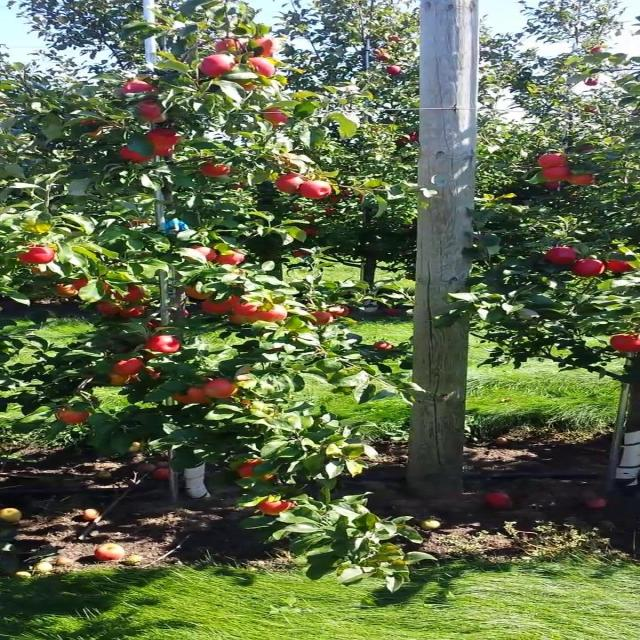apple: (241, 460, 277, 483), (198, 56, 236, 77), (205, 296, 242, 316), (298, 180, 334, 200), (255, 304, 290, 324), (141, 100, 169, 124), (148, 336, 183, 355), (205, 380, 240, 399), (276, 176, 306, 196), (56, 280, 91, 297), (547, 248, 580, 266), (20, 248, 57, 264), (56, 408, 92, 424), (177, 388, 213, 404), (148, 128, 181, 145), (120, 148, 155, 164), (262, 500, 297, 516), (113, 288, 148, 304), (575, 260, 604, 279), (262, 108, 292, 125), (113, 360, 144, 376), (127, 80, 158, 95), (248, 60, 277, 76), (611, 336, 638, 353), (191, 248, 220, 263), (220, 252, 249, 266), (604, 260, 633, 274), (84, 120, 105, 139), (205, 164, 233, 178), (255, 40, 277, 57), (540, 156, 569, 168), (184, 288, 213, 300), (234, 304, 263, 316), (120, 308, 148, 320), (568, 176, 597, 187), (106, 376, 135, 387), (220, 40, 245, 52), (276, 156, 299, 169), (547, 168, 571, 180), (312, 312, 334, 325), (333, 304, 354, 317), (99, 304, 121, 316), (227, 316, 256, 325), (35, 268, 55, 277), (156, 148, 178, 156), (148, 320, 164, 331), (148, 368, 164, 379), (291, 252, 313, 259), (582, 80, 599, 88), (241, 84, 256, 92), (305, 228, 320, 236), (582, 144, 597, 152), (390, 68, 405, 76), (547, 184, 562, 191)
